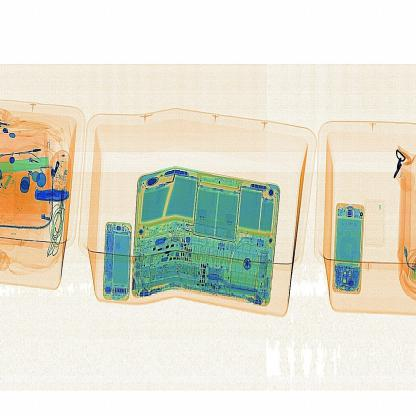knife: (38, 179, 73, 210)
